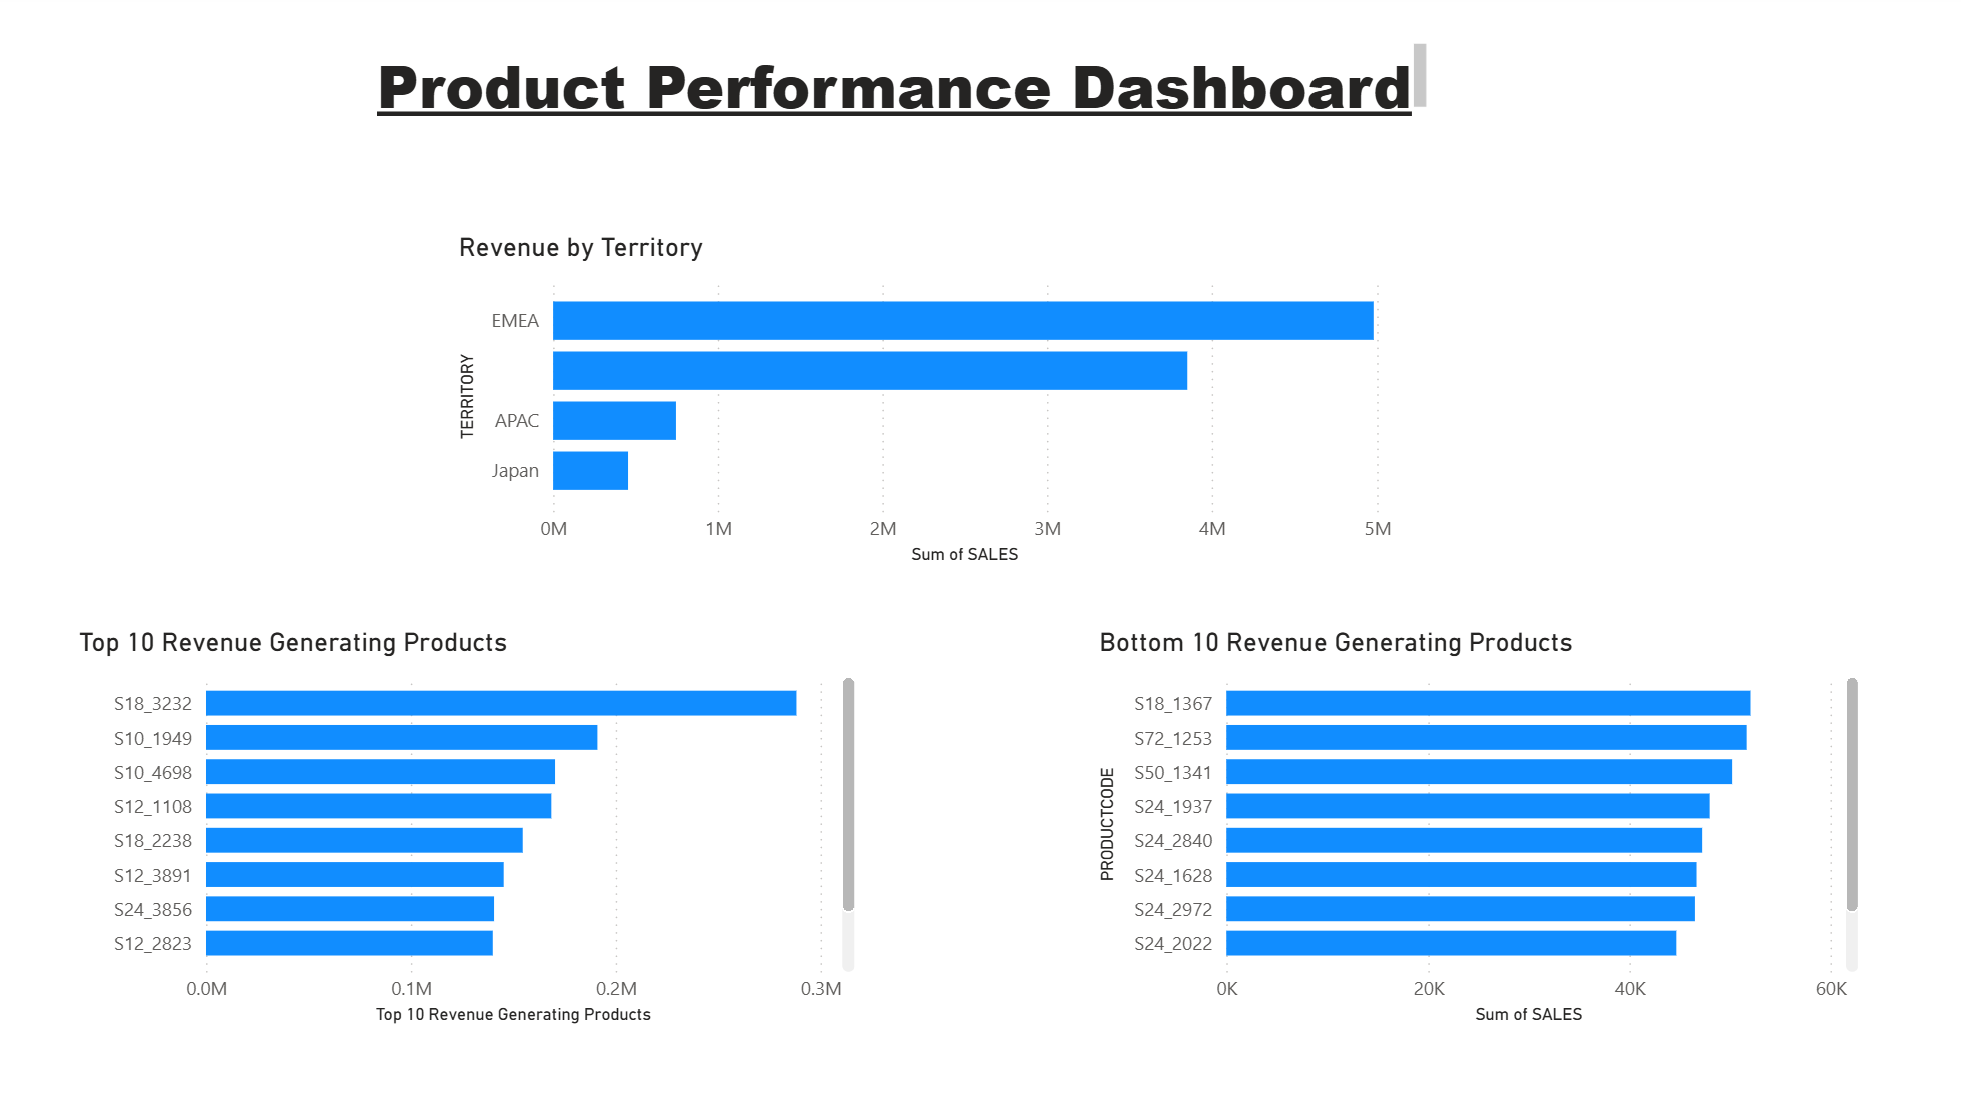

The page's visual inventory and layout, read from the dashboard file:
{"tool":"powerbi","page":{"name":"Page 2","canvas":[1280,720],"ordinal":1},"visuals":[{"type":"clusteredBarChart","title":"Top 10 Revenue Generating Products","fields":{"Y":["Sum(sales_data_cleaned.SALES)"],"Category":["sales_data_cleaned.PRODUCTCODE"]},"box":[52.9,408.8,509.1,260.2],"z":0},{"type":"clusteredBarChart","title":"Bottom 10 Revenue Generating Products","fields":{"Y":["Sum(sales_data_cleaned.SALES)"],"Category":["sales_data_cleaned.PRODUCTCODE"]},"box":[709.5,408.8,497.8,260.2],"z":1000},{"type":"clusteredBarChart","title":"Revenue by Territory","fields":{"Category":["sales_data_cleaned.TERRITORY"],"Y":["Sum(sales_data_cleaned.SALES)"]},"box":[321,120.5,609.3,263.5],"z":2000},{"type":"textbox","box":[244.4,28.2,685.9,56.3],"z":2001}]}

Visuals, with their boxes in screenshot pixels (x1, y1, x2, y2), scaled from the page's 1280x720 canvas onto the 1961x1093 screenshot:
"Top 10 Revenue Generating Products" clusteredBarChart: detection(81, 621, 861, 1016)
"Bottom 10 Revenue Generating Products" clusteredBarChart: detection(1087, 621, 1850, 1016)
"Revenue by Territory" clusteredBarChart: detection(492, 183, 1425, 583)
textbox: detection(374, 43, 1425, 128)
